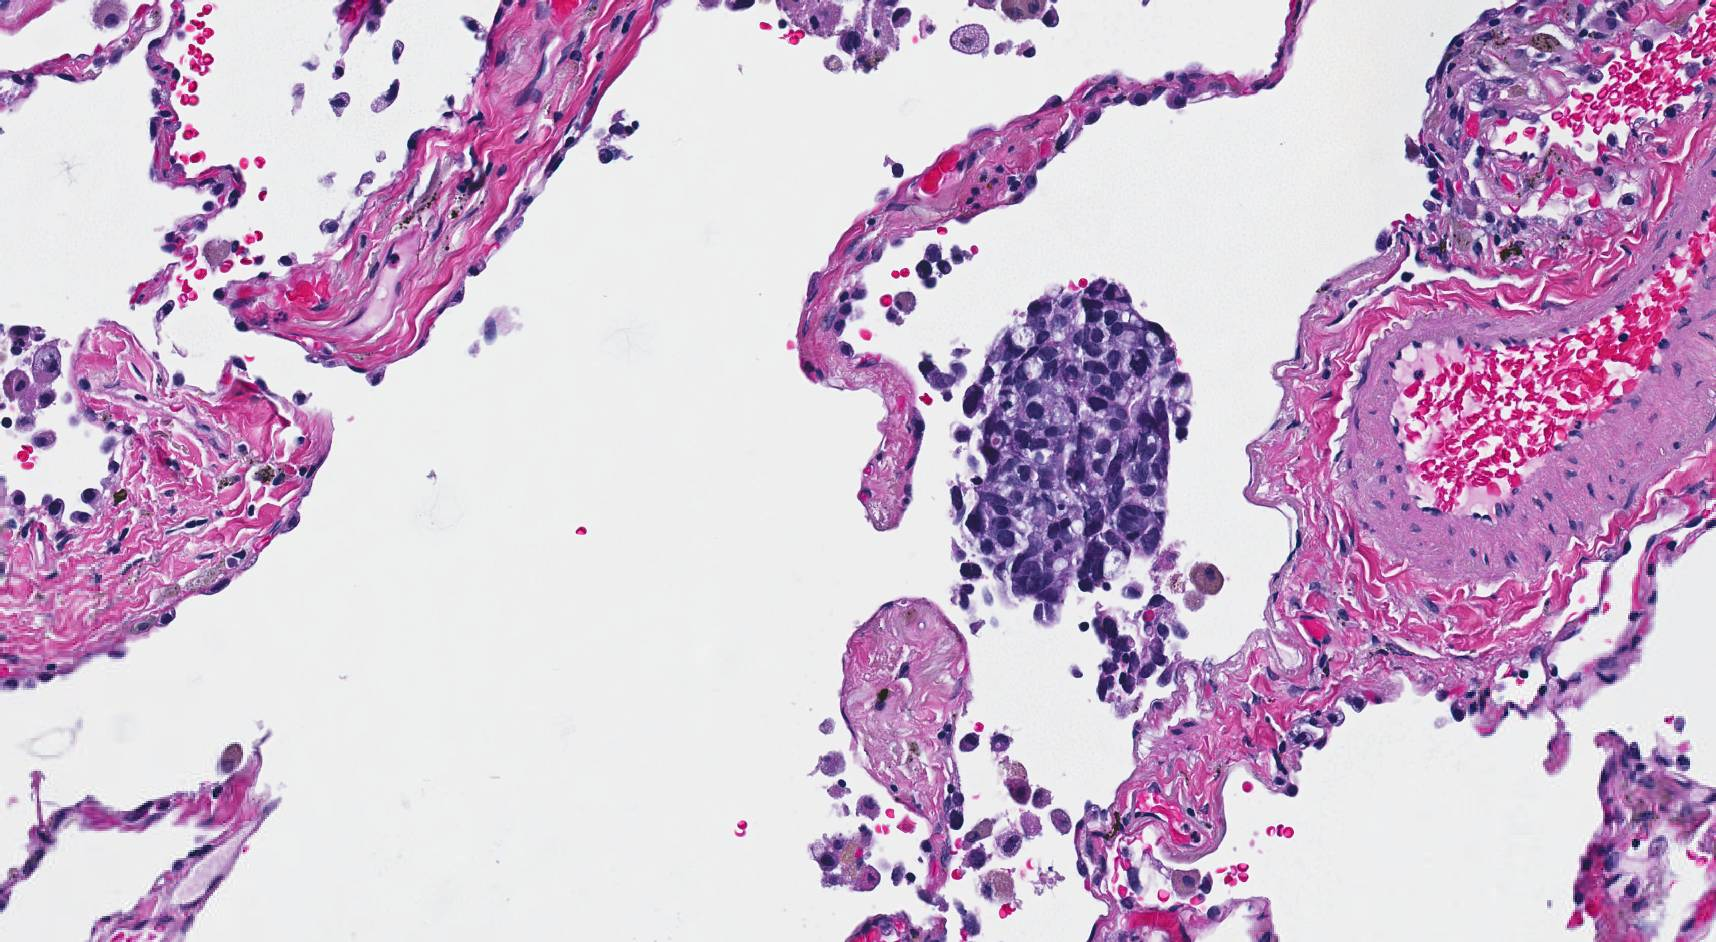stas: (950, 272, 1195, 626), (1091, 596, 1184, 701)
